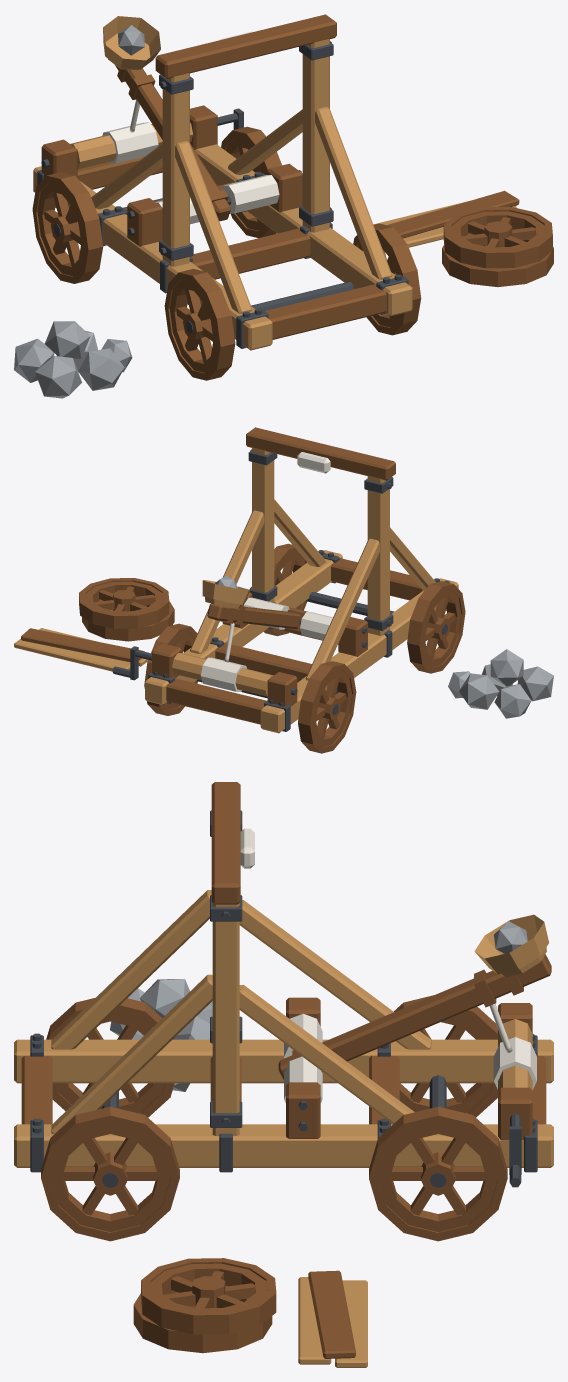
File: siege-catapult.glb
3 views of the same model, one above another, from view 1: azimuth 30°, elevation 25°; view 2: azimuth 150°, elevation 25°; view 3: azimuth 270°, elevation 25° (orthographic). The views are drawn at different scales.
Visible parts, largest first — view 1: Wheel_BL, Wheel_FL, SpareWheel_1, SideBeam_R, StopBar, Post_R, Post_L, SideBeam_L, CrossBeam_0, FrontBrace_R, FrontBrace_L, CrossBeam_1 (+24 smaller); view 2: Wheel_BL, Wheel_FL, SpareWheel_1, SideBeam_R, StopBar, SideBeam_L, Post_L, Post_R, CrossBeam_3, RearBrace_L, RearBrace_R, CrossBeam_2 (+24 smaller); view 3: SideBeam_L, SideBeam_R, Wheel_FR, Wheel_BR, SpareWheel_1, Arm, Post_R, FrontBrace_L, RearBrace_R, RearBrace_L, FrontBrace_R, Wheel_FL (+20 smaller).
Boxes of the visible parts, x1,y1,x2,y2 form: Wheel_BL: (32, 172, 103, 283); Wheel_FL: (164, 269, 235, 380); SpareWheel_1: (443, 207, 552, 268); SideBeam_R: (195, 144, 412, 316); StopBar: (155, 14, 336, 78); Post_R: (302, 39, 329, 232); Post_L: (162, 73, 189, 266); SideBeam_L: (33, 166, 272, 350); CrossBeam_0: (265, 284, 386, 339); FrontBrace_R: (315, 106, 392, 279); FrontBrace_L: (175, 141, 252, 313); CrossBeam_1: (190, 228, 310, 279); Wheel_BL: (298, 661, 356, 753); Wheel_FL: (407, 581, 465, 673); SpareWheel_1: (79, 578, 169, 628); SideBeam_R: (145, 550, 342, 704); StopBar: (246, 427, 395, 480); SideBeam_L: (260, 578, 458, 733); Post_L: (367, 476, 389, 635); Post_R: (252, 447, 274, 602); CrossBeam_3: (166, 678, 266, 724); RearBrace_L: (305, 538, 379, 680); RearBrace_R: (190, 510, 264, 653); CrossBeam_2: (215, 642, 311, 682); SideBeam_L: (14, 1039, 553, 1083); SideBeam_R: (14, 1124, 553, 1167); Wheel_FR: (41, 1106, 179, 1241); Wheel_BR: (369, 1106, 507, 1241); SpareWheel_1: (141, 1258, 276, 1334); Arm: (278, 954, 551, 1079); Post_R: (212, 903, 239, 1135); FrontBrace_L: (51, 890, 211, 1049); RearBrace_R: (239, 984, 414, 1124); RearBrace_L: (239, 900, 431, 1049); FrontBrace_R: (51, 974, 212, 1134); Wheel_FL: (46, 998, 174, 1117).
Bounding box in the file's own units: 20.71 × 9.95 × 14.
